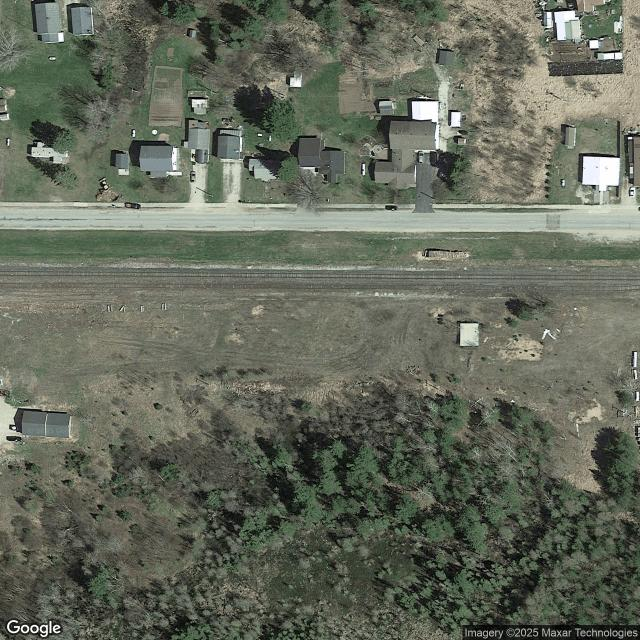Propane: (362, 163, 366, 177), (132, 128, 136, 139), (7, 138, 11, 147), (561, 179, 565, 187), (49, 56, 56, 60)
